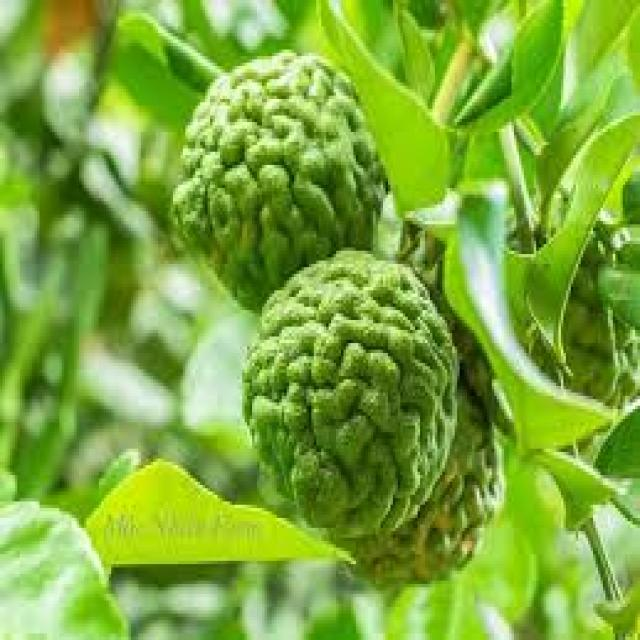Chuc: (240, 244, 460, 538), (168, 46, 388, 314), (334, 366, 504, 587)
